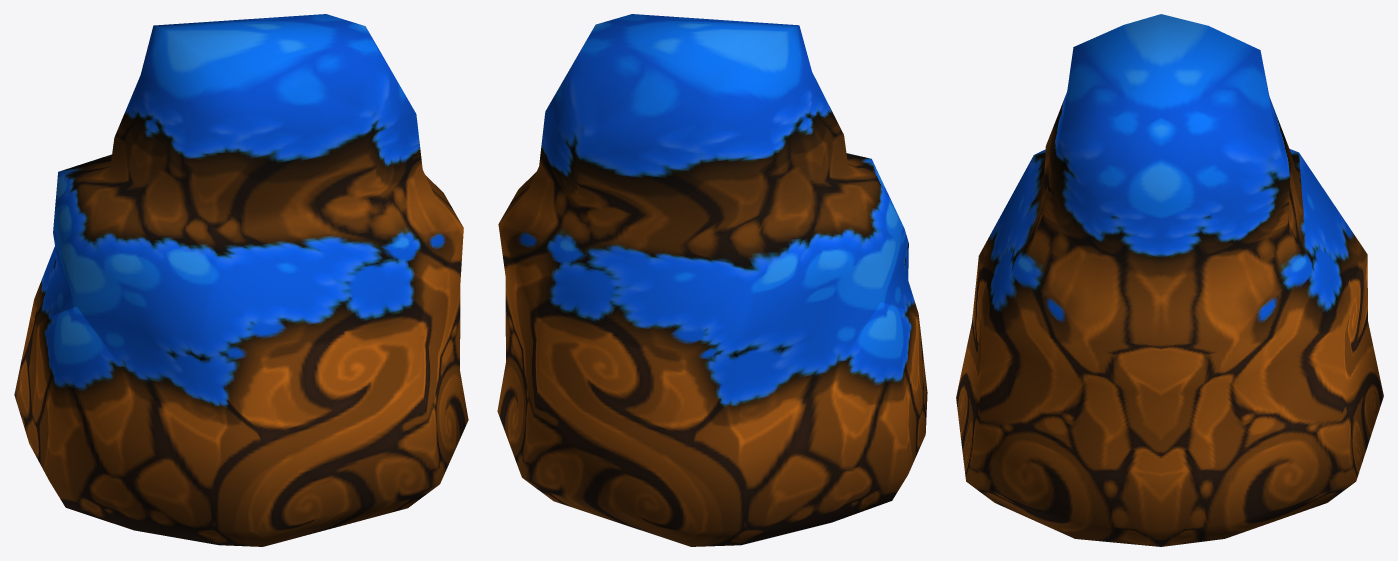
File: Blue_Rock_01.FBX
3 renders of one model, left to right at view 1: azimuth 30°, elevation 25°; view 2: azimuth 150°, elevation 25°; view 3: azimuth 270°, elevation 25°, orthographic. The views are drawn at different scales.
Parts seen in each view (by area): view 1: Blue_Rock_01; view 2: Blue_Rock_01; view 3: Blue_Rock_01.
Boxes of the visible parts, x1,y1,x2,y2 form: Blue_Rock_01: (14,14,468,546); Blue_Rock_01: (497,14,927,546); Blue_Rock_01: (956,14,1383,546).
Bounding box in the file's own units: 280 × 297 × 272.
